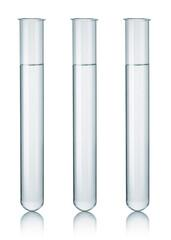Test tube: (121, 13, 155, 215), (69, 17, 100, 213), (16, 13, 44, 210)
